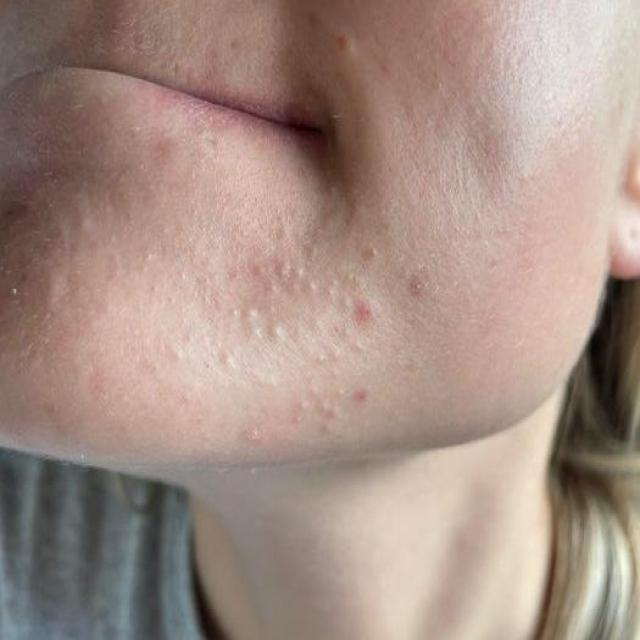blackheads: (238, 300, 283, 341), (354, 296, 370, 324), (338, 28, 354, 52), (409, 272, 422, 295), (218, 345, 232, 364), (357, 385, 368, 404)
